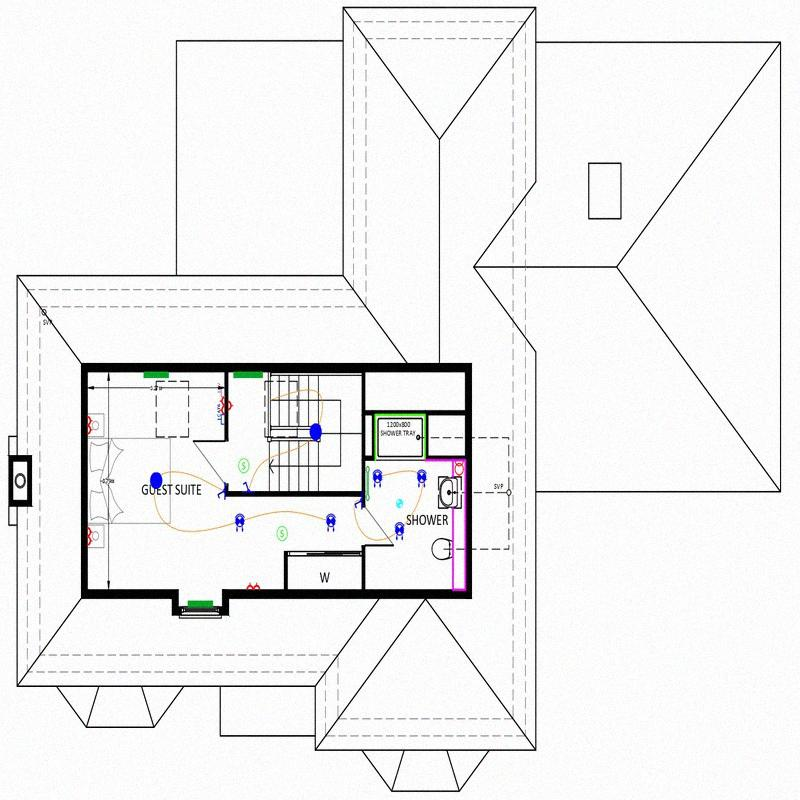Cat 6 Data Socket: (217, 414, 225, 425)
Ceiling Mounted Continuous Extract FanWith Boost Mode Activated By Light Switch: (396, 499, 403, 508)
Double Socket: (87, 416, 95, 436), (246, 581, 261, 590), (87, 527, 94, 545), (219, 397, 226, 414)
Full Height Tiling: (374, 414, 425, 460)
Light Switch: (353, 499, 361, 509), (217, 487, 224, 498), (242, 482, 250, 491)
Low Energy Downlighter: (232, 513, 246, 533), (325, 513, 336, 532), (372, 469, 383, 488), (395, 522, 404, 540), (417, 470, 426, 487)
Low Energy Pendant Light: (308, 423, 322, 441), (149, 472, 163, 489)
Mains Wired Smoke Detector: (237, 457, 250, 473), (276, 526, 288, 540)
Radiator: (233, 372, 263, 378), (187, 600, 213, 606), (143, 372, 169, 377)
Shaver Socket: (453, 460, 465, 478)
Single Socket: (228, 401, 234, 411)
TV & Satellite Multisocket: (218, 387, 225, 397)
